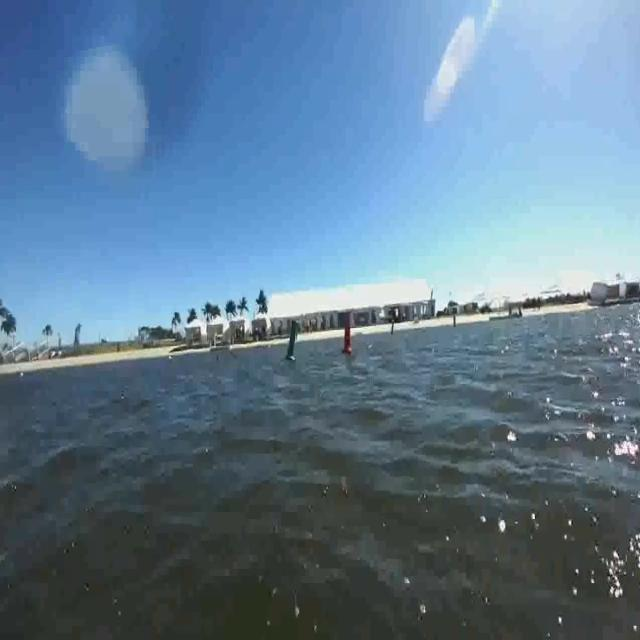green-column-buoy: (282, 310, 304, 372)
red-column-buoy: (342, 313, 357, 357)
